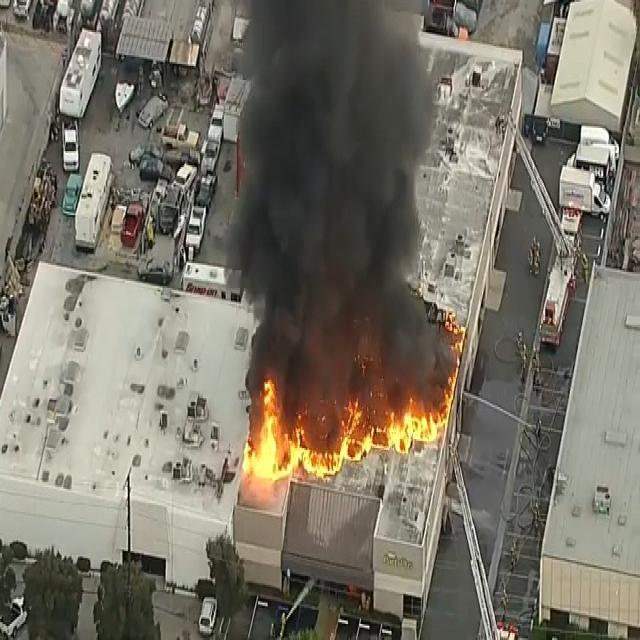Fire: (248, 371, 454, 464)
Smoke: (250, 0, 458, 394)
